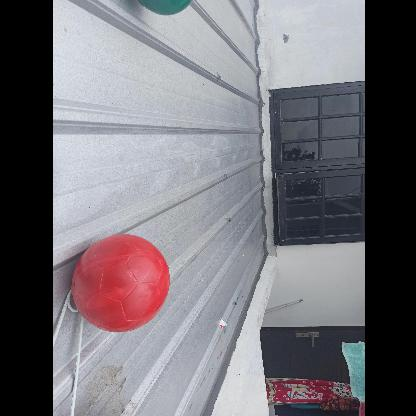red_ball: (73, 232, 172, 330)
